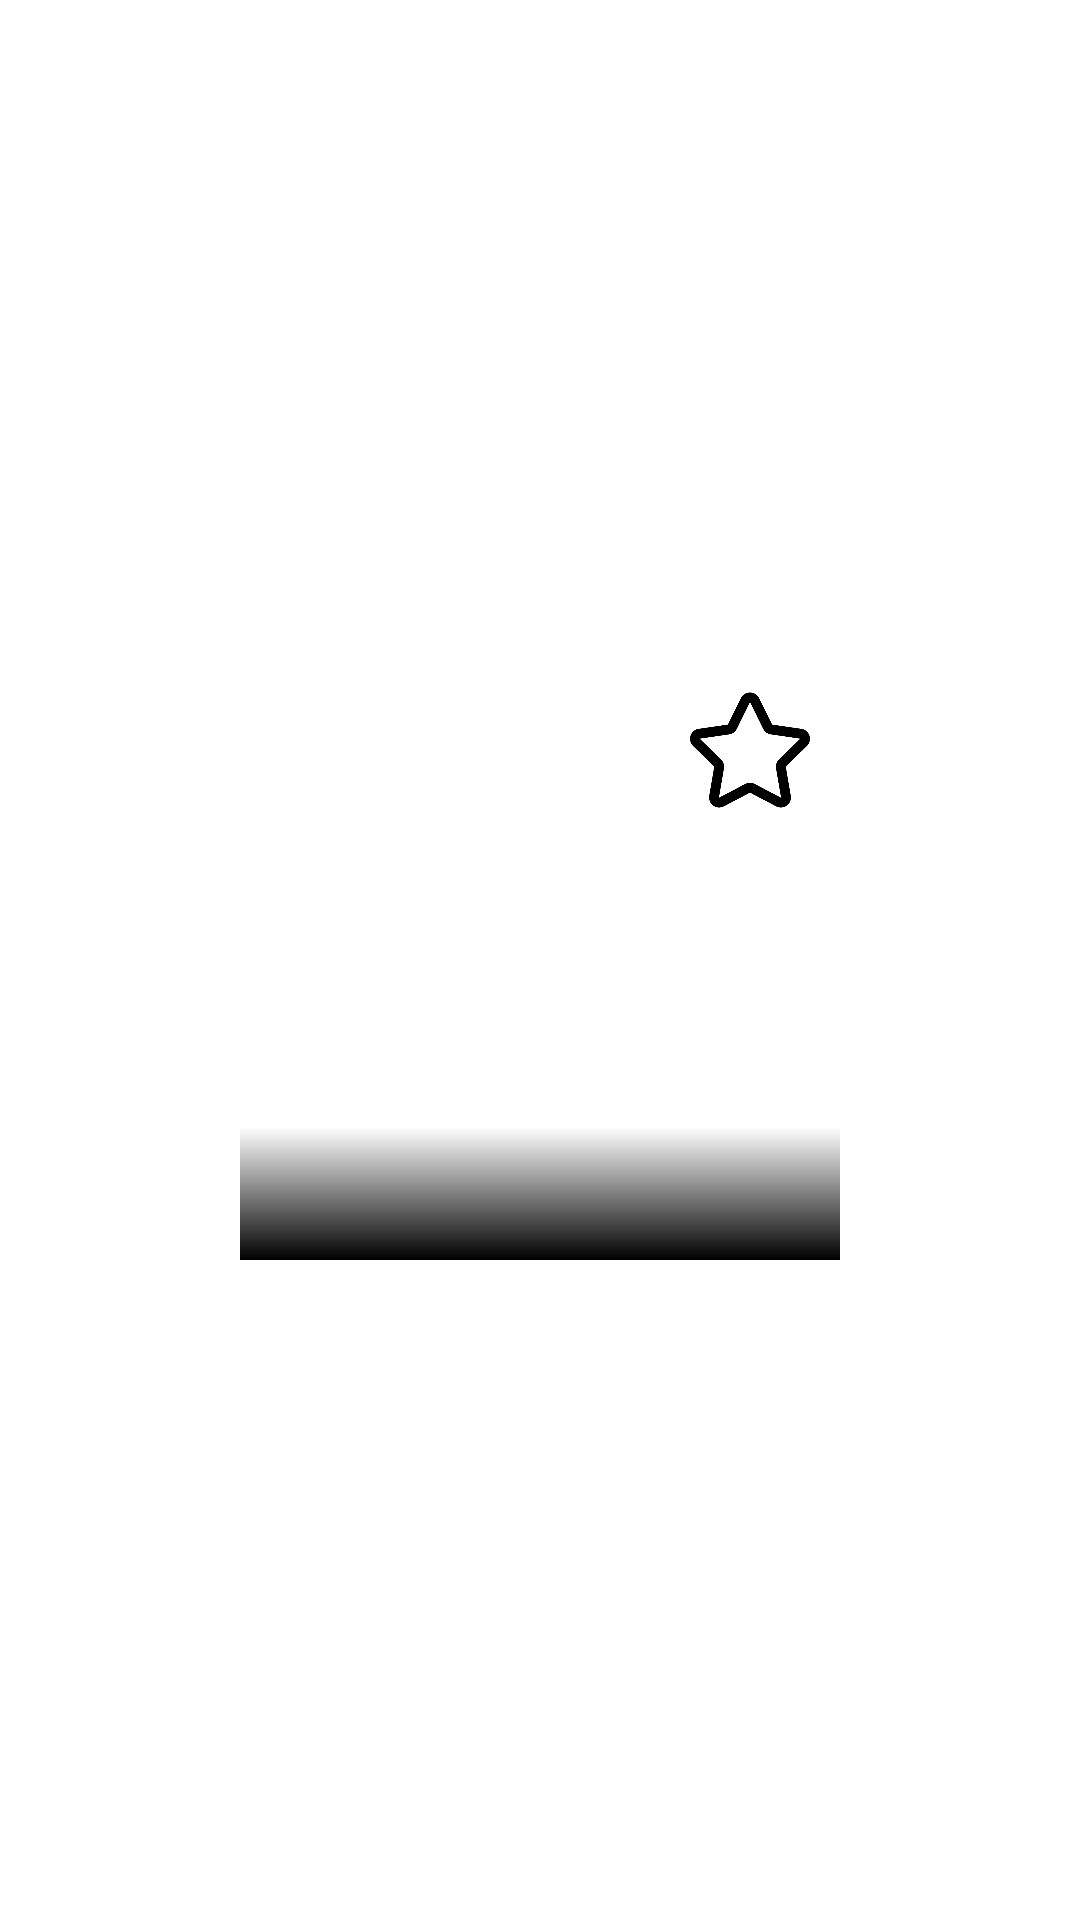

Icons on this 1080 x 1920 Android screen, each with its box as (x1, y1, x2, y2):
favorite: (690, 692, 810, 808)
